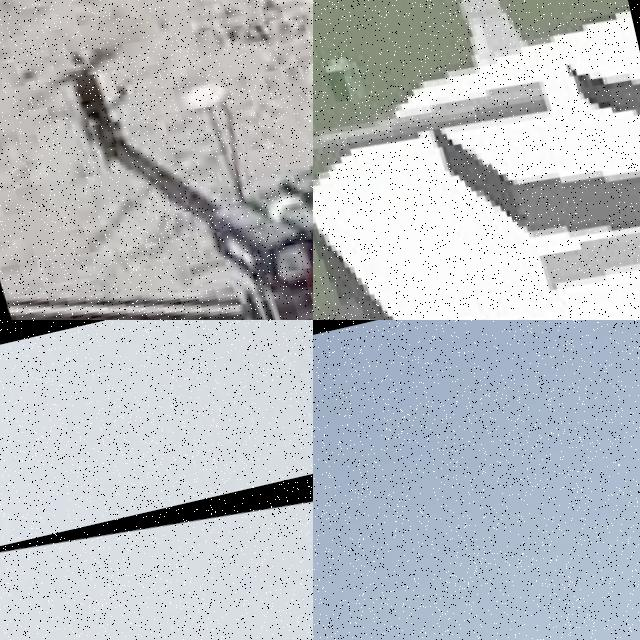0: (0, 0, 313, 320)
drone: (313, 0, 640, 320), (0, 423, 313, 640)
